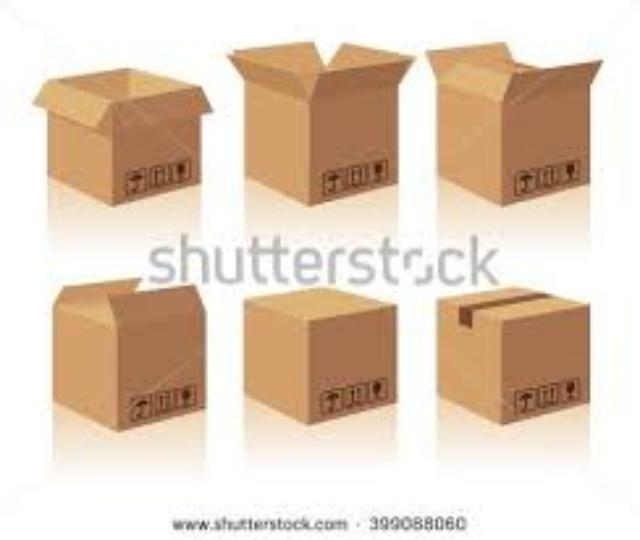cardboard paper: (228, 39, 409, 199), (425, 39, 595, 199), (31, 66, 205, 199), (50, 278, 199, 425), (241, 286, 391, 417), (435, 286, 585, 417)
